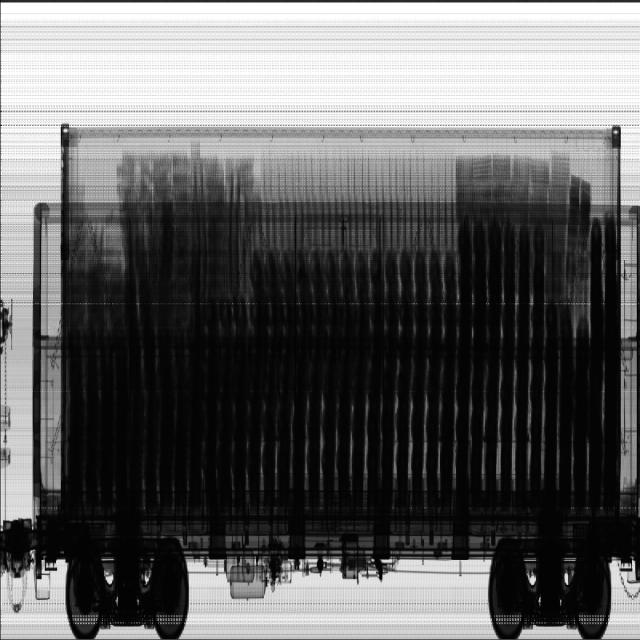lamps: (455, 154, 591, 292)
